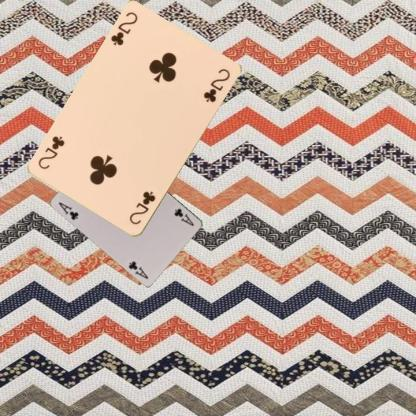2c: (108, 10, 139, 48), (127, 189, 157, 226)
Ac: (56, 200, 80, 222), (172, 206, 195, 228)
